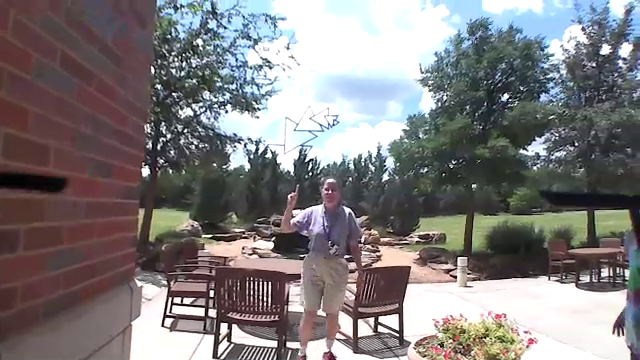up: (285, 180, 303, 205)
